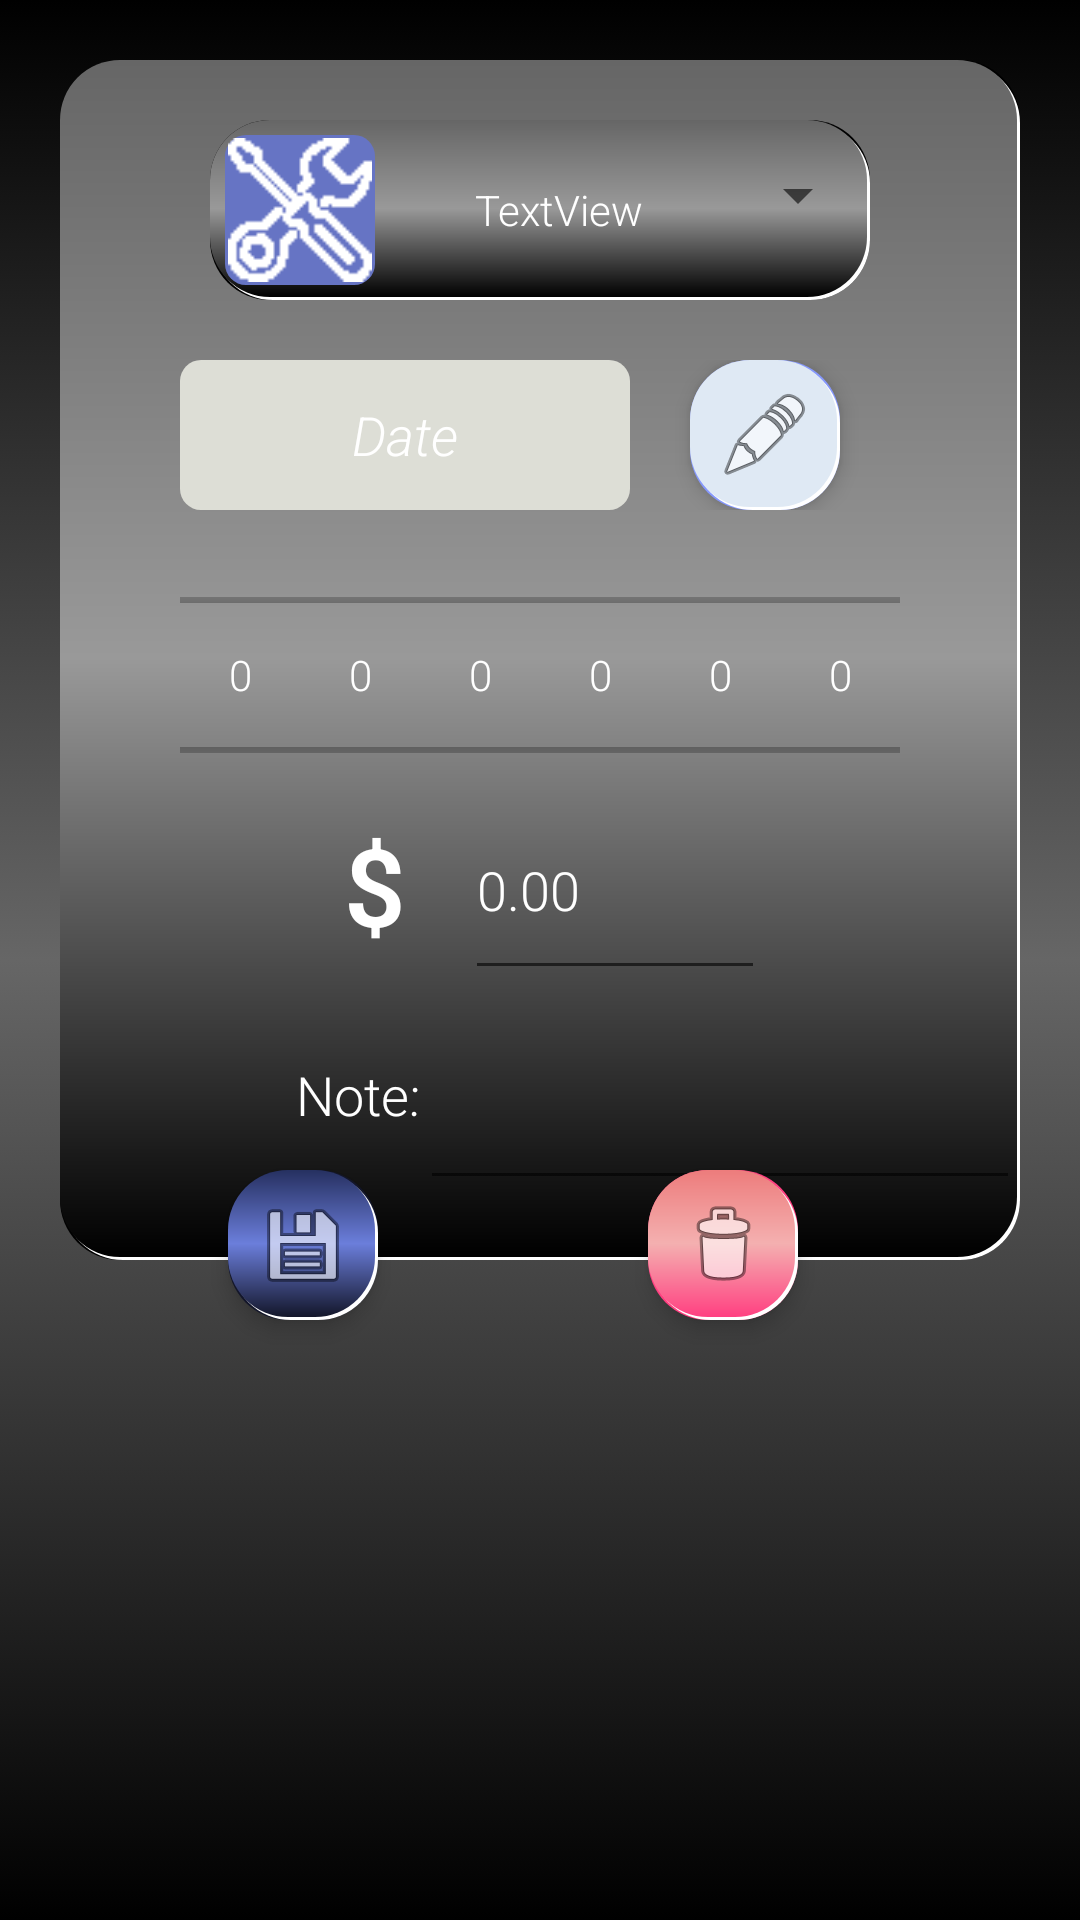

Screen size 1080px x 1920px. Icon name, then its center in pixels as (x=x, y=y):
delete: (x=723, y=1245)
edit: (x=765, y=435)
save: (x=303, y=1245)
tool symbol: (x=300, y=210)
